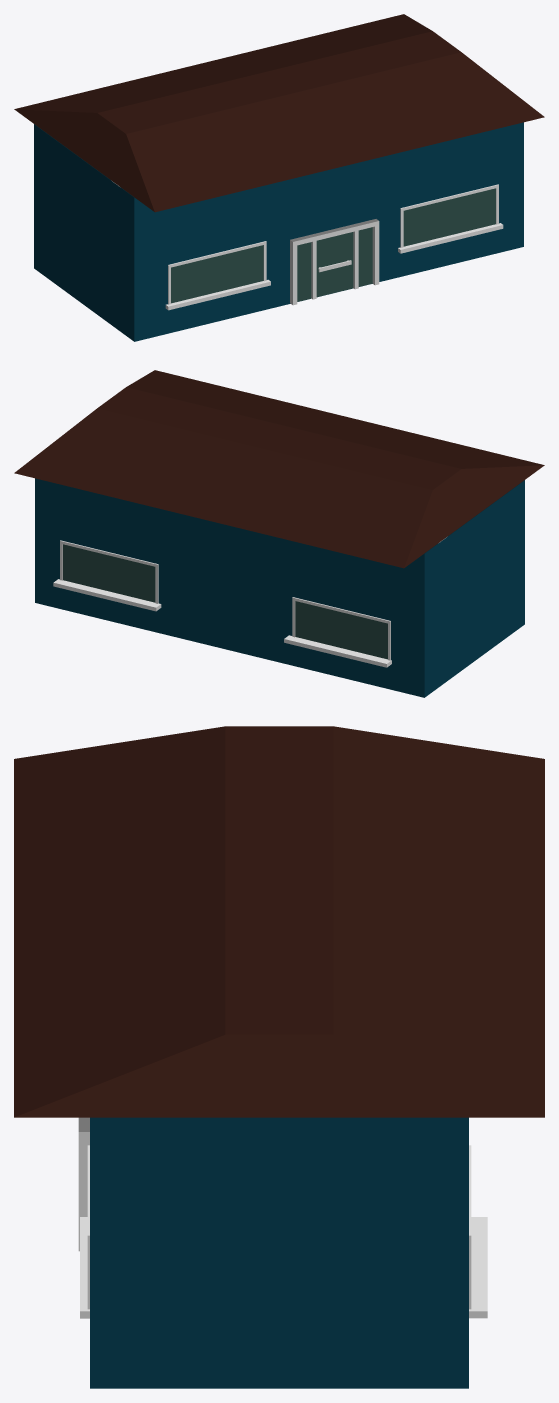
Rendered from Shelter_Building.obj.
The picture shows the model from 3 angles, top to bottom: view 1: azimuth 30°, elevation 25°; view 2: azimuth 150°, elevation 25°; view 3: azimuth 270°, elevation 25°; orthographic projection. The views are drawn at different scales.
Visible parts, largest first — view 1: polySurface101; view 2: polySurface101; view 3: polySurface101.
Boxes of the visible parts, x1,y1,x2,y2 form: polySurface101: (14,14,544,341); polySurface101: (14,370,544,697); polySurface101: (14,726,544,1388).
Bounding box in the file's own units: 13.5 × 5.78 × 8.44.
